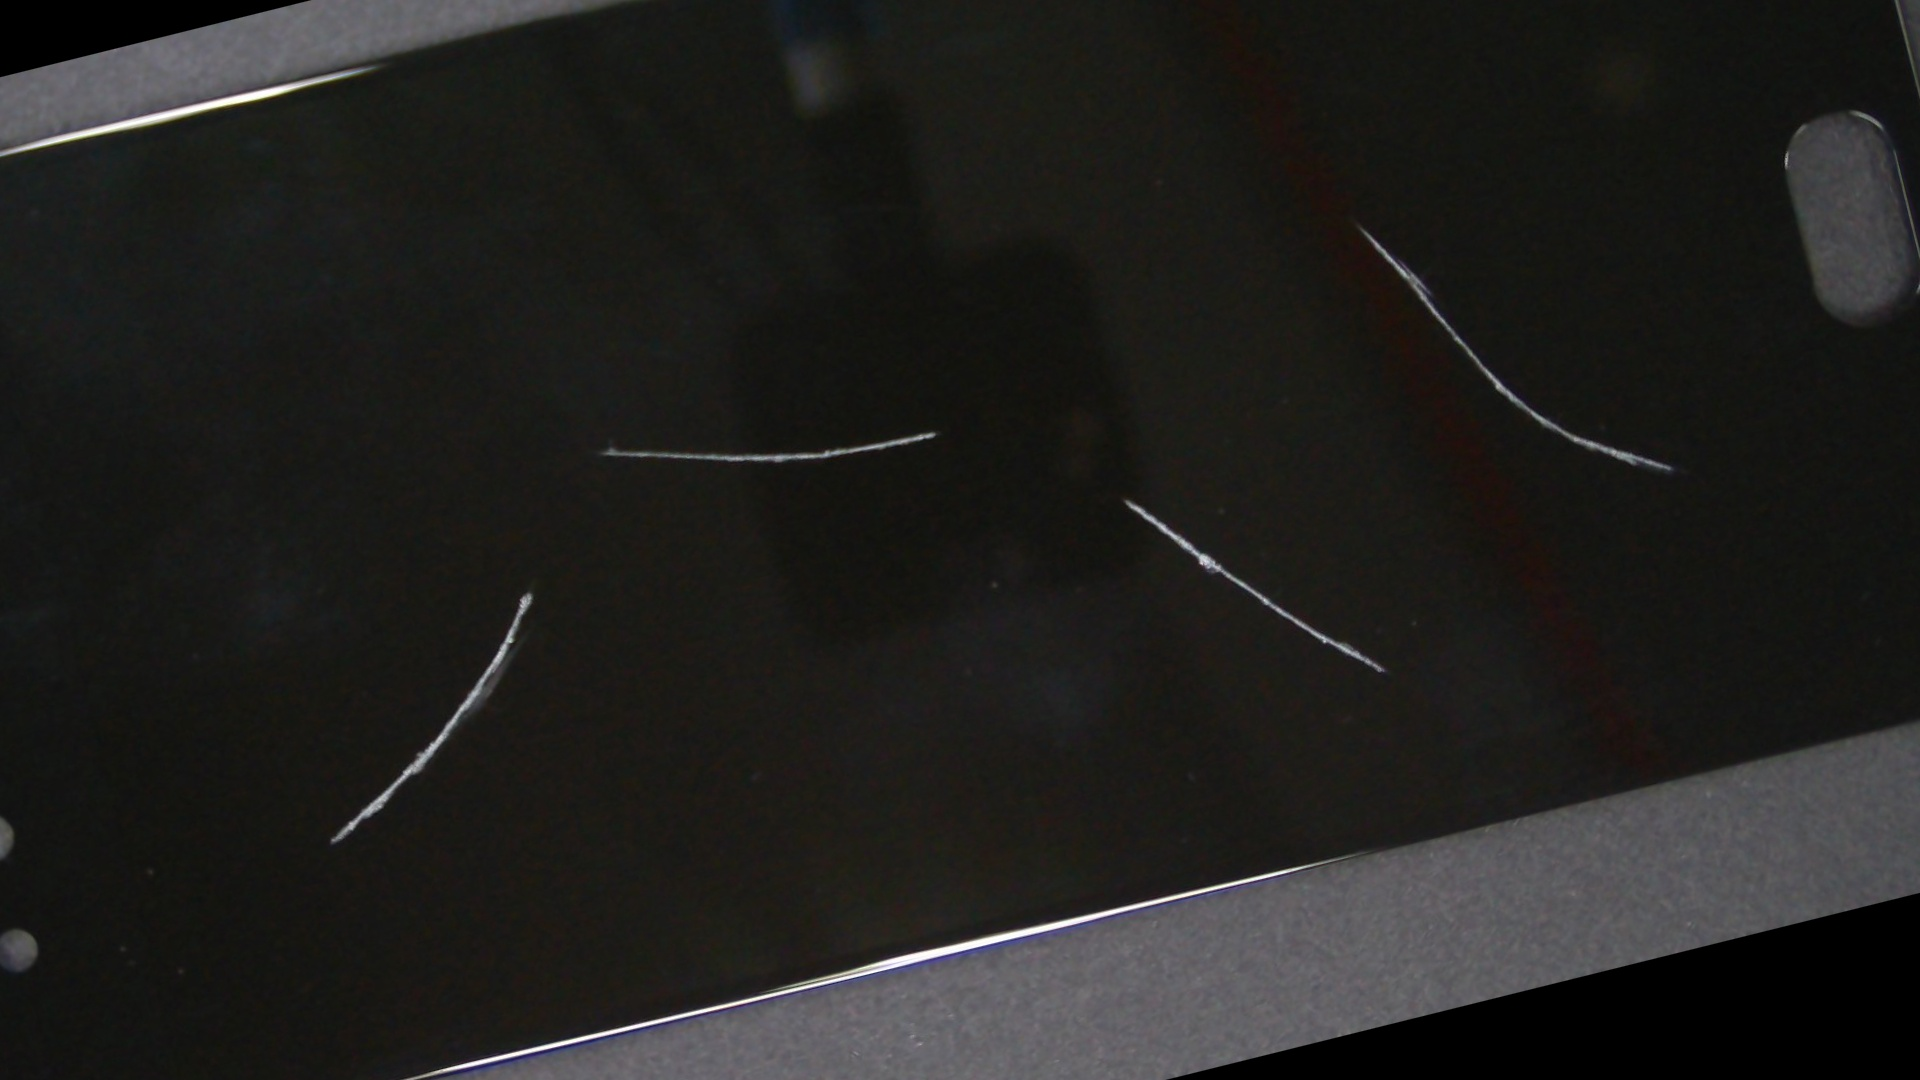oil: (405, 9, 1845, 986), (521, 0, 1920, 647), (105, 202, 947, 981), (148, 102, 1069, 794)
